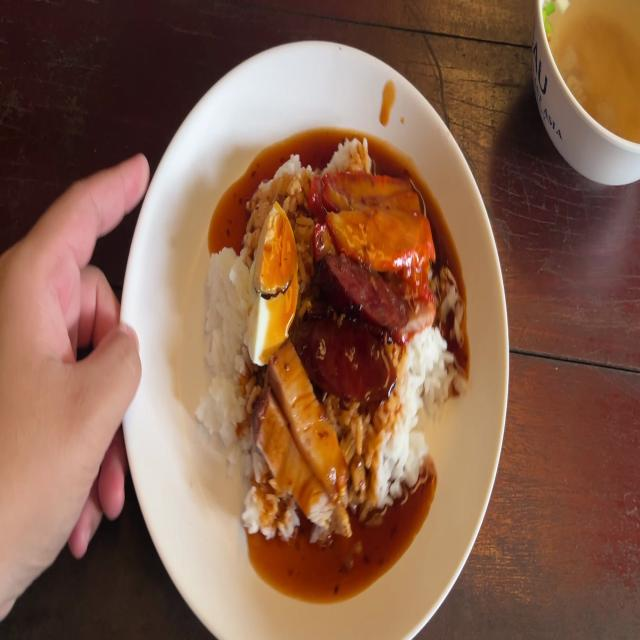01boiled_egg: (247, 211, 299, 350)
01chainese_sausage: (302, 252, 396, 394)
01crispy_pork: (261, 354, 342, 524)
01red_pork: (321, 178, 426, 257)
01red_pork_and_crispy_pork: (204, 151, 446, 542)
01rice: (198, 255, 249, 438), (353, 412, 426, 495), (390, 339, 444, 390)
